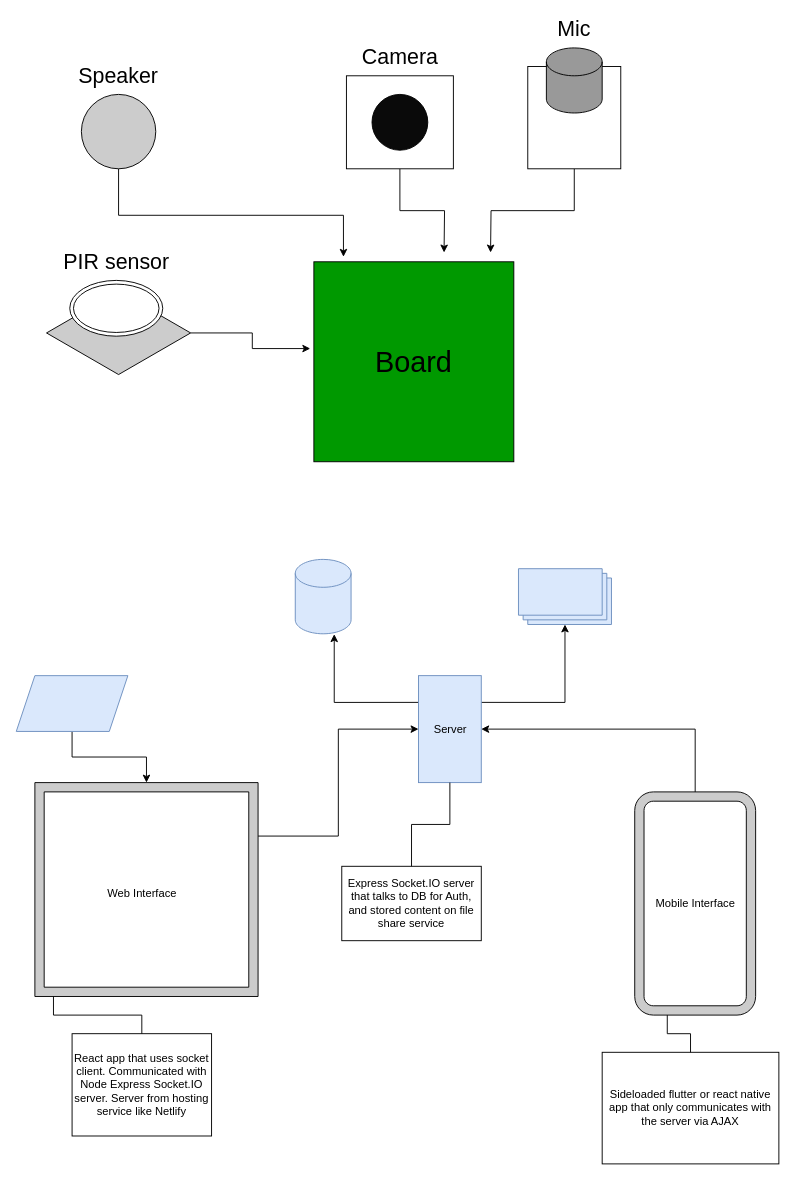
Image size: 795x1180. Some labels were removed from this diagram. The shapes that lost their labels are listed below. From the top down, each one's centre as x and y in pixels, then its label:
(322,596): DB
(564,596): File Share
(71,703): Hosting for web (Netlify)
